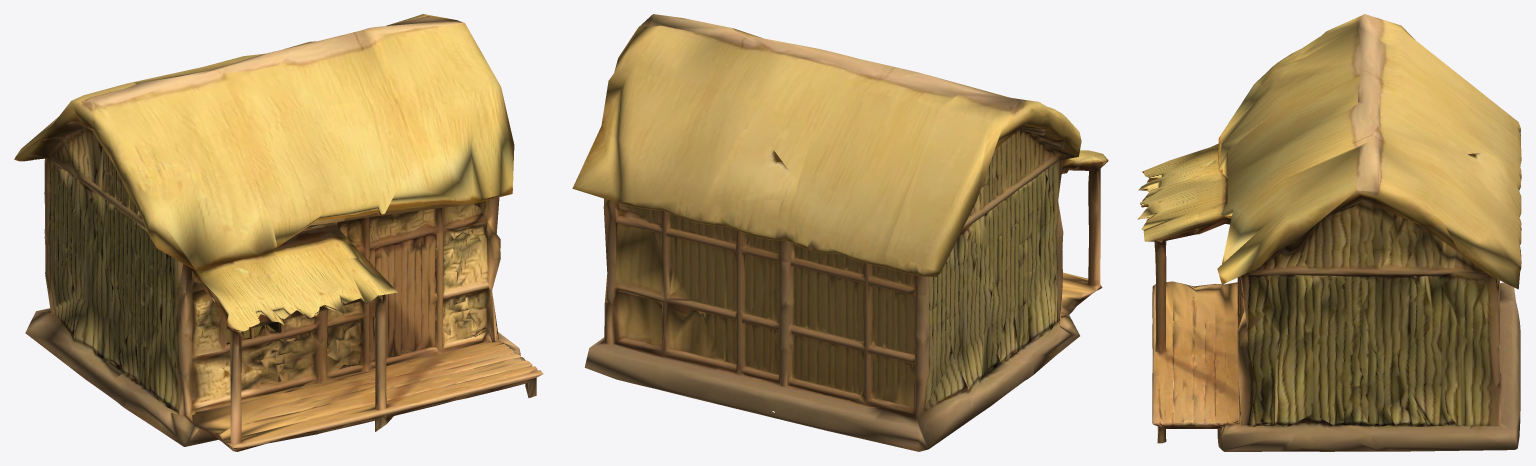
The model's file is nha-mai-tranh.526b0a08.glb.
3 views of the same model, side by side, from view 1: azimuth 30°, elevation 25°; view 2: azimuth 150°, elevation 25°; view 3: azimuth 270°, elevation 25° (orthographic). The views are drawn at different scales.
Visible parts, largest first — view 1: tripo_node_dd758f07-c6de-4ccc-aace-e3f0e90ebc94; view 2: tripo_node_dd758f07-c6de-4ccc-aace-e3f0e90ebc94; view 3: tripo_node_dd758f07-c6de-4ccc-aace-e3f0e90ebc94.
Part boxes in pixels (box(x1,y1,x2,y2)): tripo_node_dd758f07-c6de-4ccc-aace-e3f0e90ebc94: box(14, 14, 543, 451); tripo_node_dd758f07-c6de-4ccc-aace-e3f0e90ebc94: box(572, 14, 1108, 451); tripo_node_dd758f07-c6de-4ccc-aace-e3f0e90ebc94: box(1137, 14, 1521, 451).
Size of the model in its own units: 0.977 by 0.7377 by 0.9159.
Materials: 1 (1 with a texture image).
